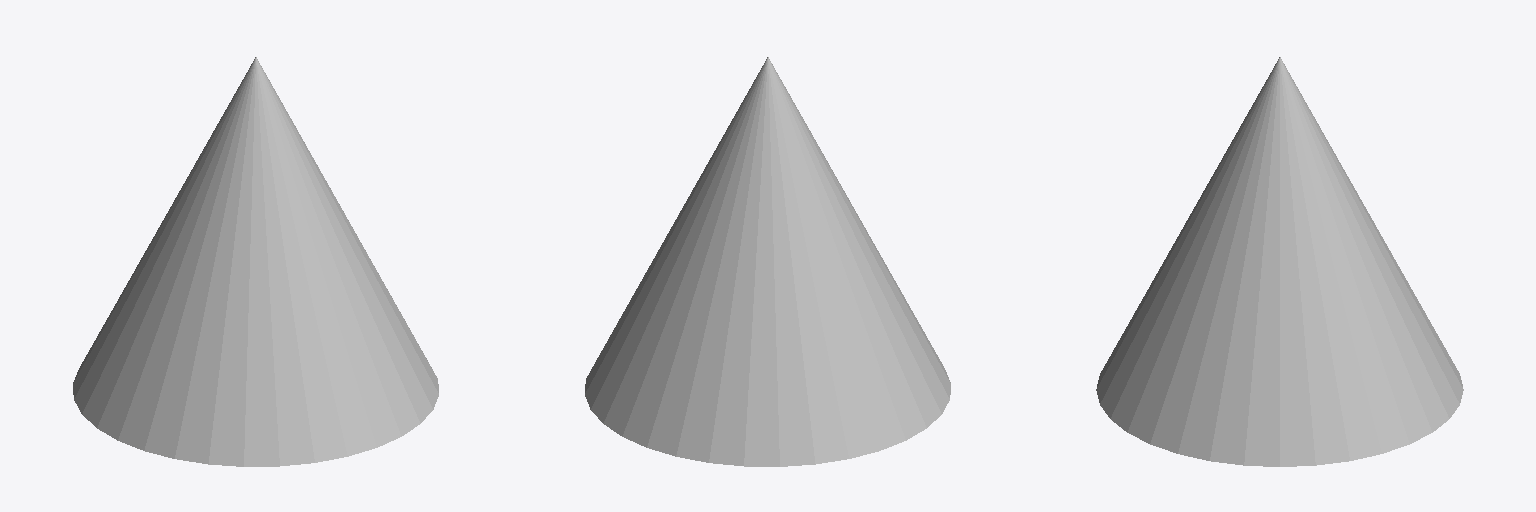
Rendered from LIGHT.obj.
The picture shows the model from 3 angles: view 1: azimuth 30°, elevation 25°; view 2: azimuth 150°, elevation 25°; view 3: azimuth 270°, elevation 25°; orthographic projection.
Parts seen in each view (by area): view 1: Cone; view 2: Cone; view 3: Cone.
Part boxes in pixels (x1,y1,x2,y2): Cone: (73,57,438,466); Cone: (585,57,950,466); Cone: (1096,57,1463,466).
Bounding box in the file's own units: 2 × 2.4 × 2.